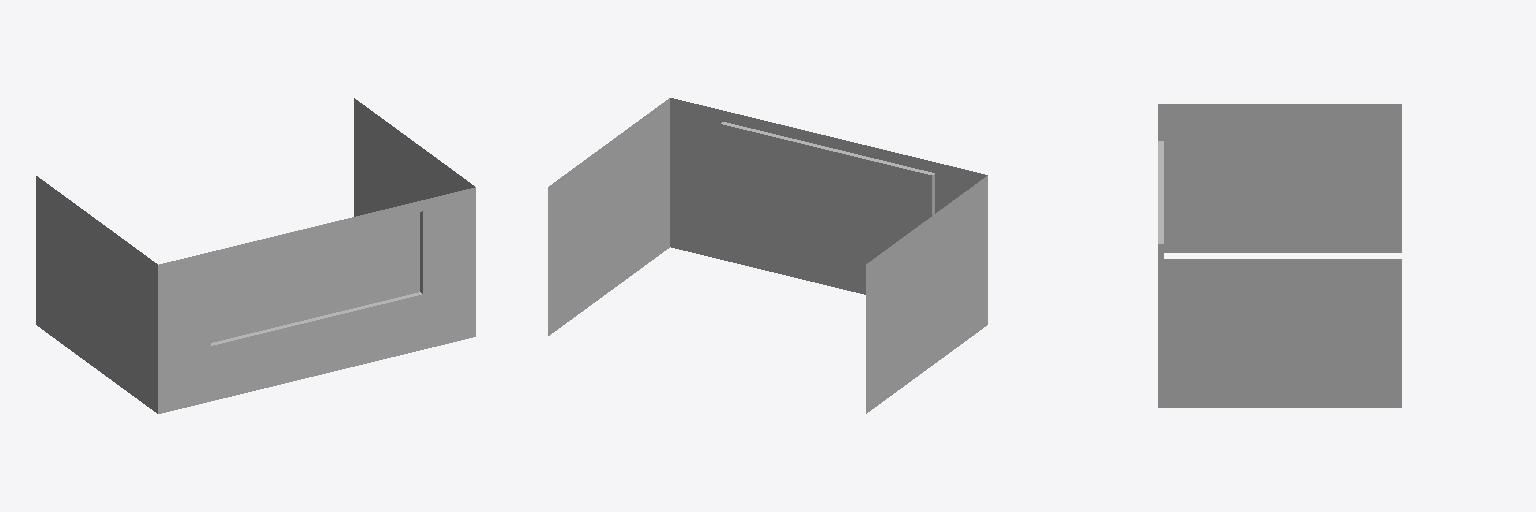
File: industry_build_8.obj
3 renders of one model, left to right at view 1: azimuth 30°, elevation 25°; view 2: azimuth 150°, elevation 25°; view 3: azimuth 270°, elevation 25°, orthographic.
Visible parts, largest first — view 1: IndustryBuildA3_00; view 2: IndustryBuildA3_00; view 3: IndustryBuildA3_00.
Part boxes in pixels (left/top/right/bottom): IndustryBuildA3_00: left=36, top=98, right=475, bottom=413; IndustryBuildA3_00: left=548, top=98, right=987, bottom=413; IndustryBuildA3_00: left=1158, top=104, right=1401, bottom=407.
Size of the model in its own units: 6 by 2.7 by 4.